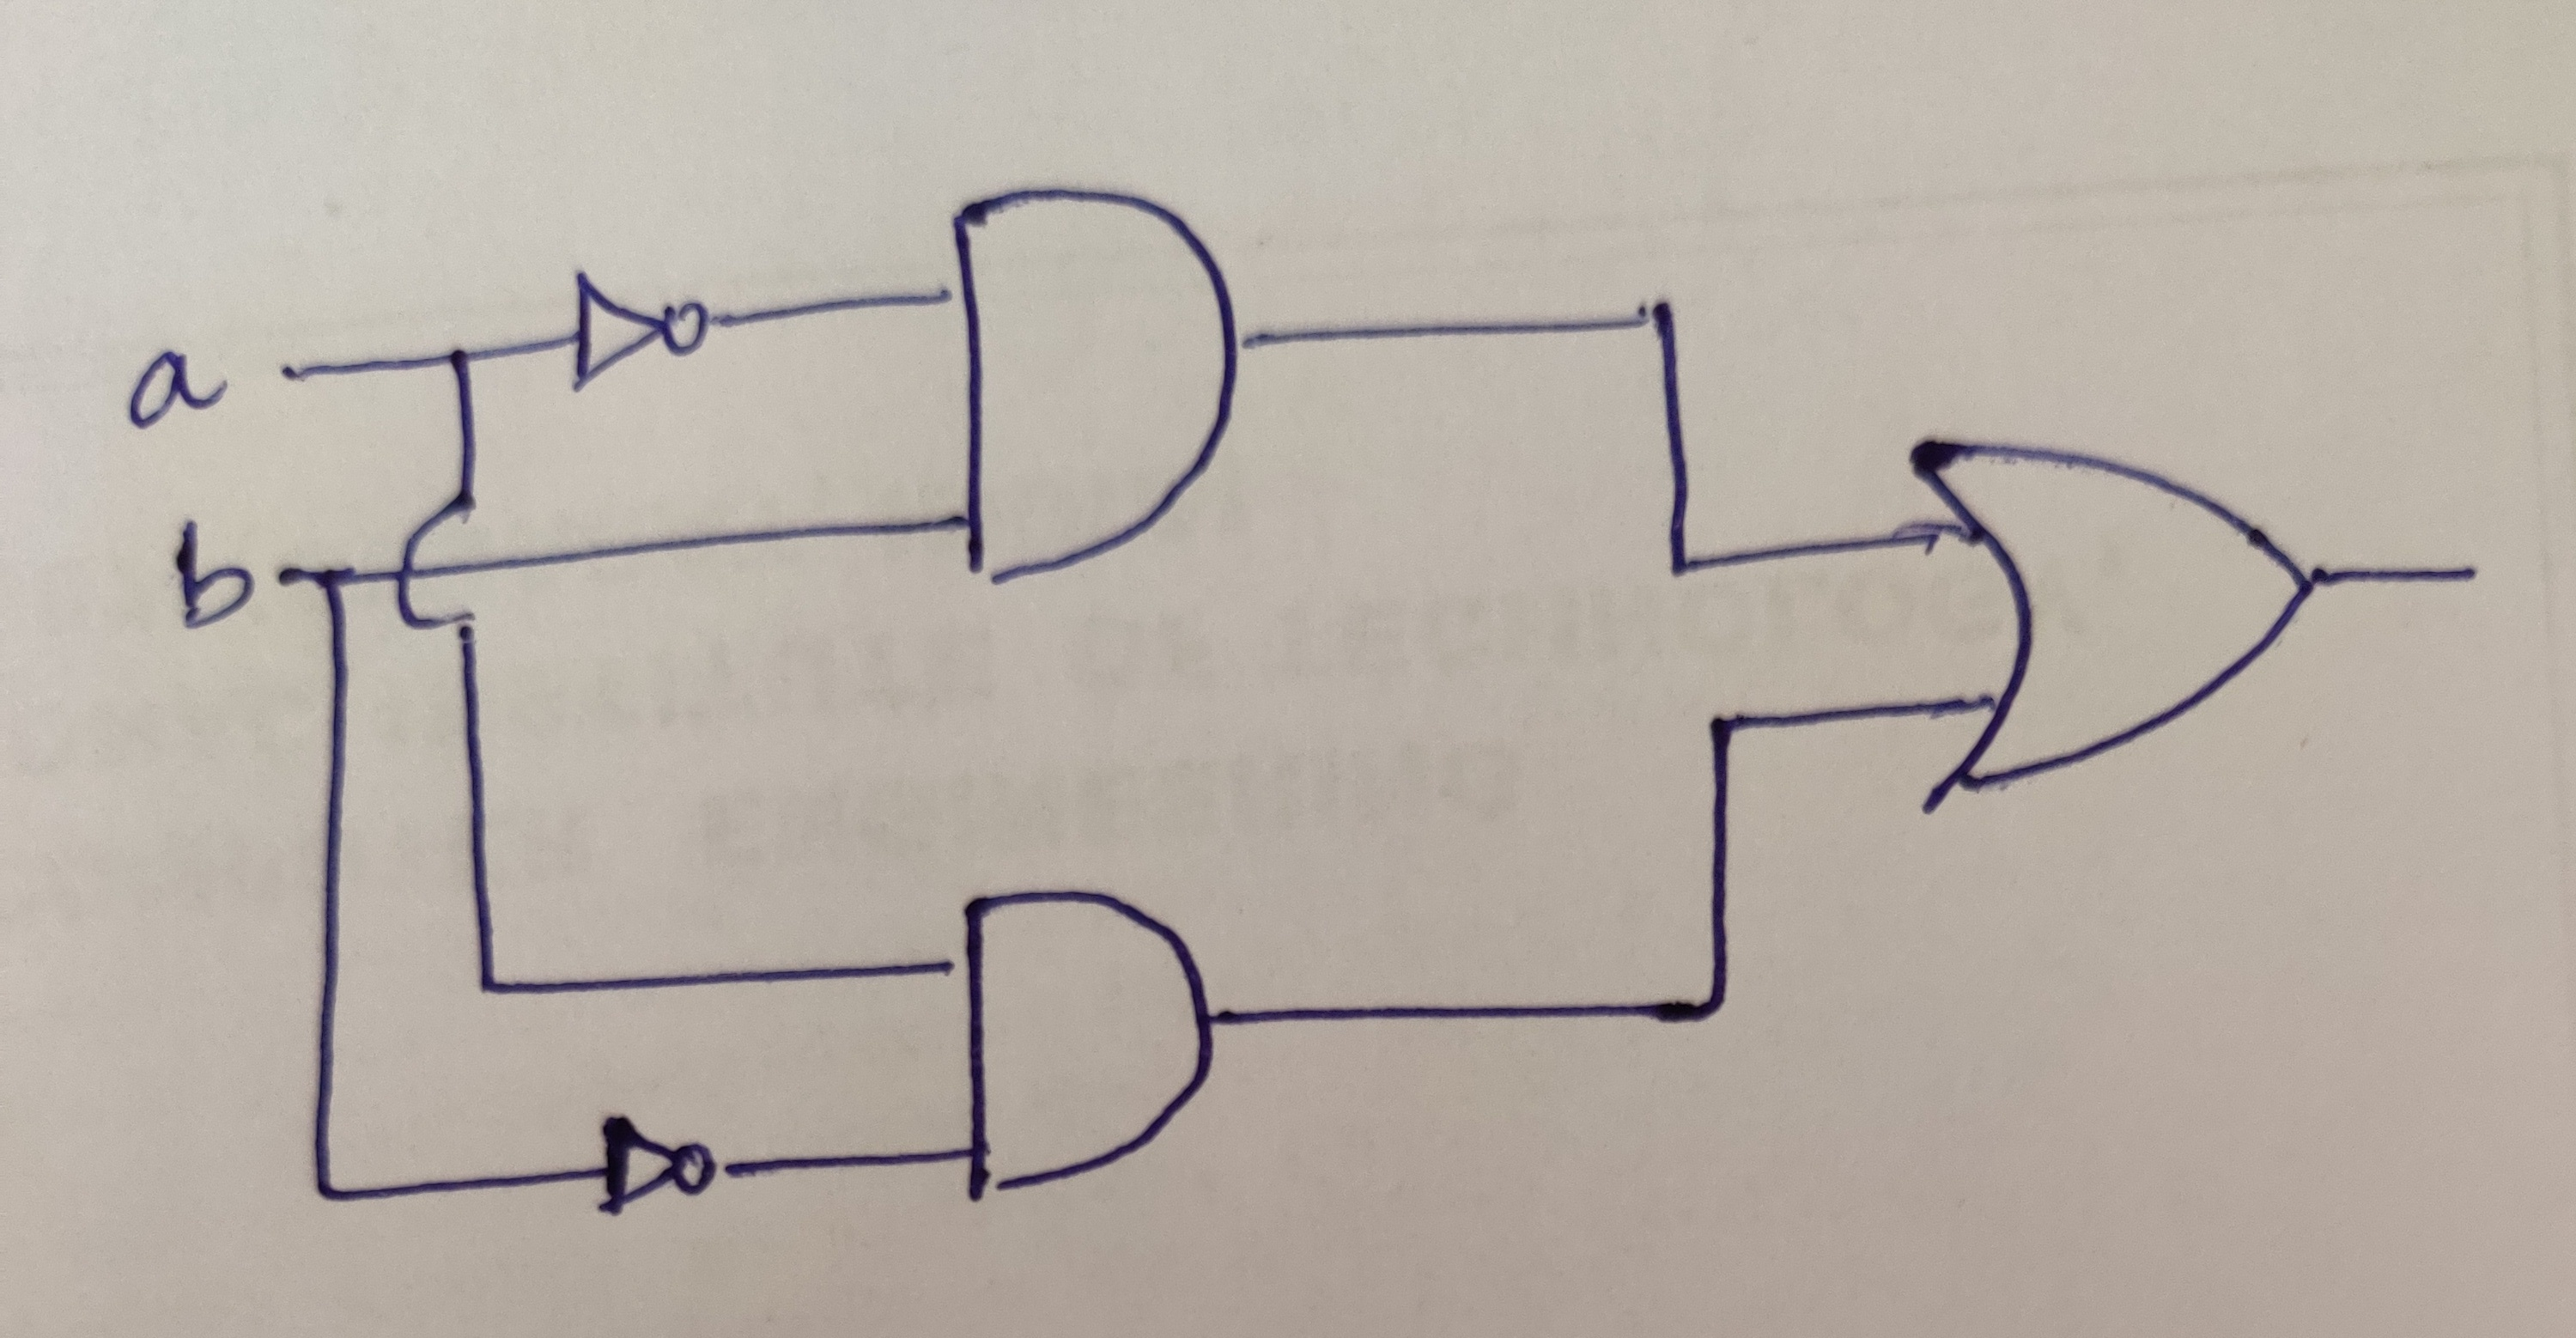and: (915, 165, 1259, 627), (915, 862, 1244, 1236)
not: (566, 1086, 746, 1266), (550, 245, 724, 418)
or: (1872, 341, 2337, 833)
